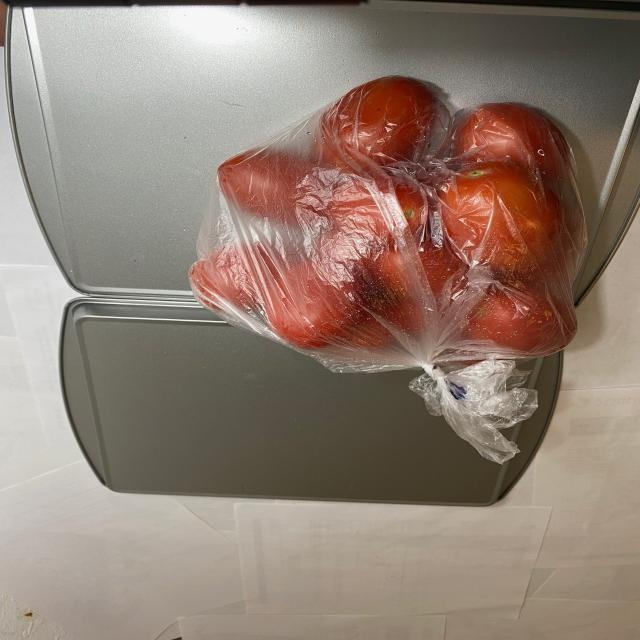tomato: (198, 79, 593, 362)
